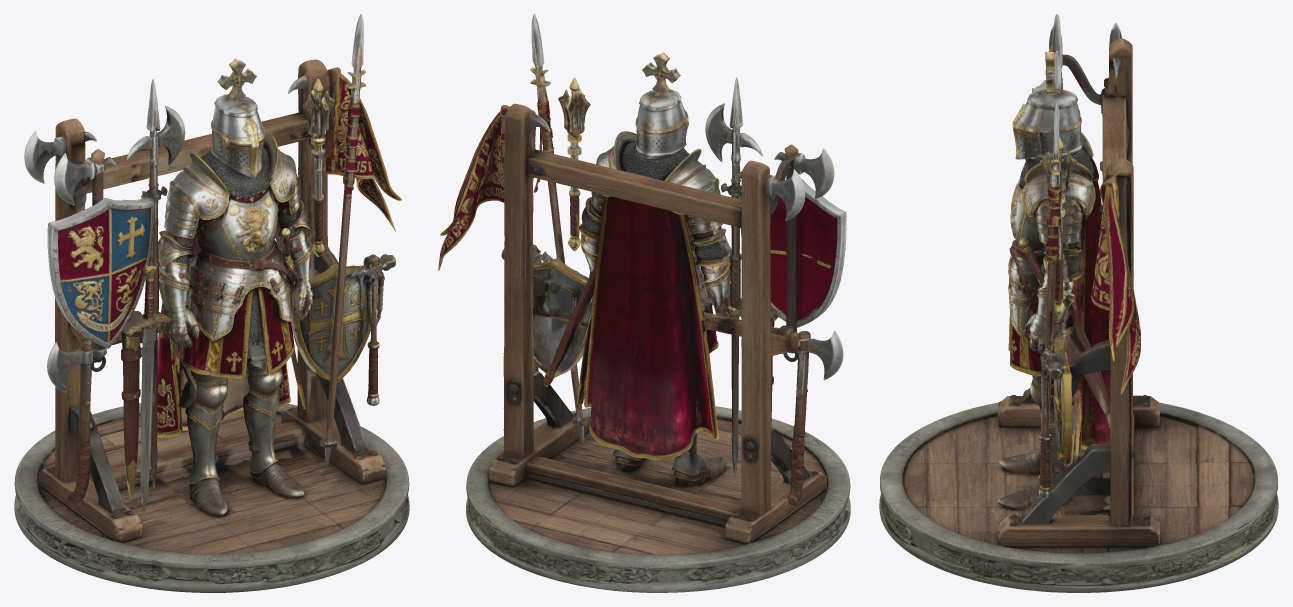
File: 十字军装备-张书宇 宋悠冉.glb
3 views of the same model, side by side, from view 1: azimuth 30°, elevation 25°; view 2: azimuth 150°, elevation 25°; view 3: azimuth 270°, elevation 25° (orthographic). The views are drawn at different scales.
Bounding box in the file's own units: 1.62 × 1.9 × 1.45.
1 material, 1 textured.
